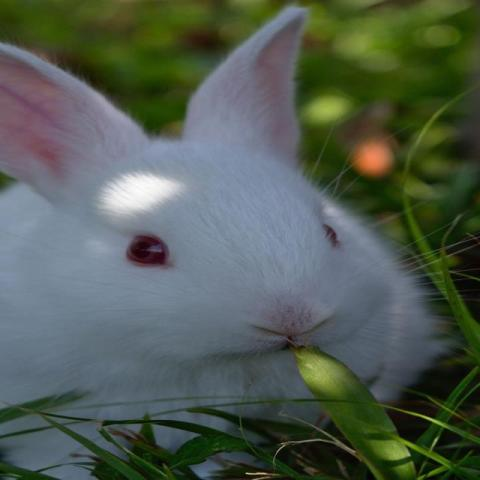small_animal: (0, 4, 454, 435)
